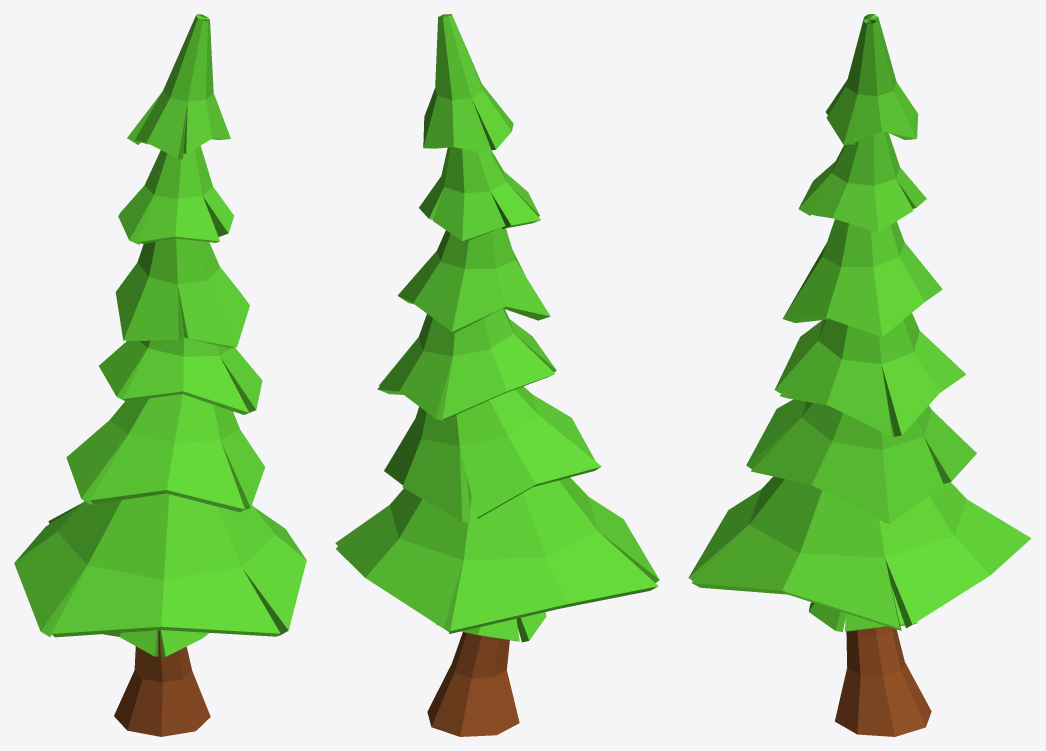
The model's file is tree2.fbx.
3 renders of one model, left to right at view 1: azimuth 30°, elevation 25°; view 2: azimuth 150°, elevation 25°; view 3: azimuth 270°, elevation 25°, orthographic. The views are drawn at different scales.
Parts seen in each view (by area): view 1: tree2; view 2: tree2; view 3: tree2.
Boxes of the visible parts, box(x1,y1,x2,y2) form: tree2: box(14, 14, 306, 736); tree2: box(335, 14, 659, 736); tree2: box(688, 14, 1031, 736).
Bounding box in the file's own units: 427 × 995 × 432.
